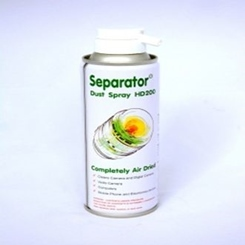Aerosol_cans: (81, 28, 163, 220)
